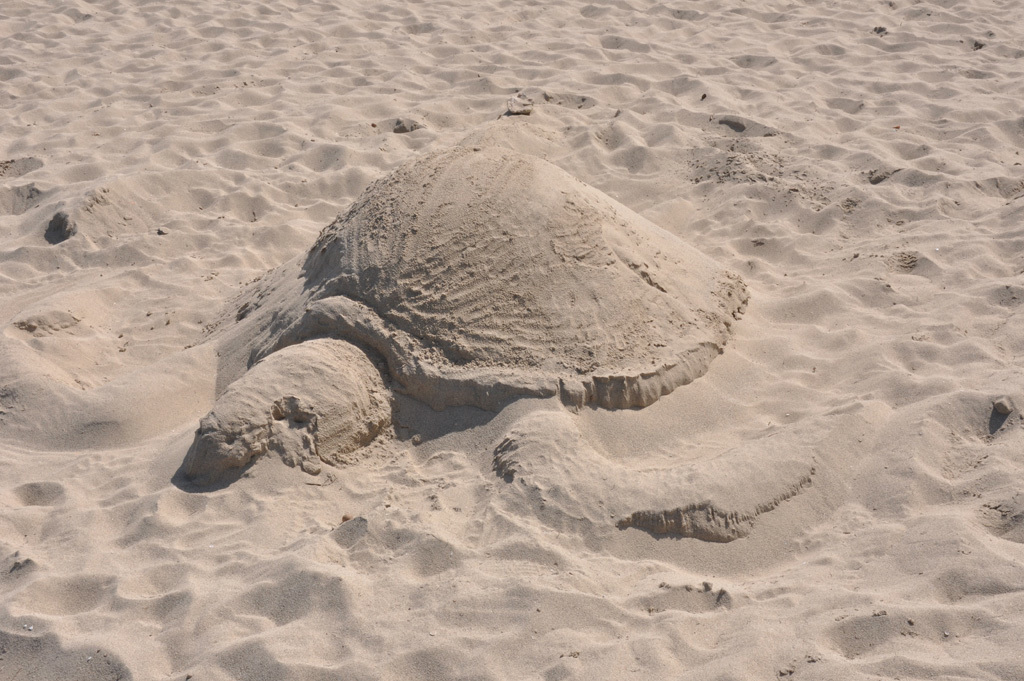Sea turtles: (197, 145, 750, 468)
